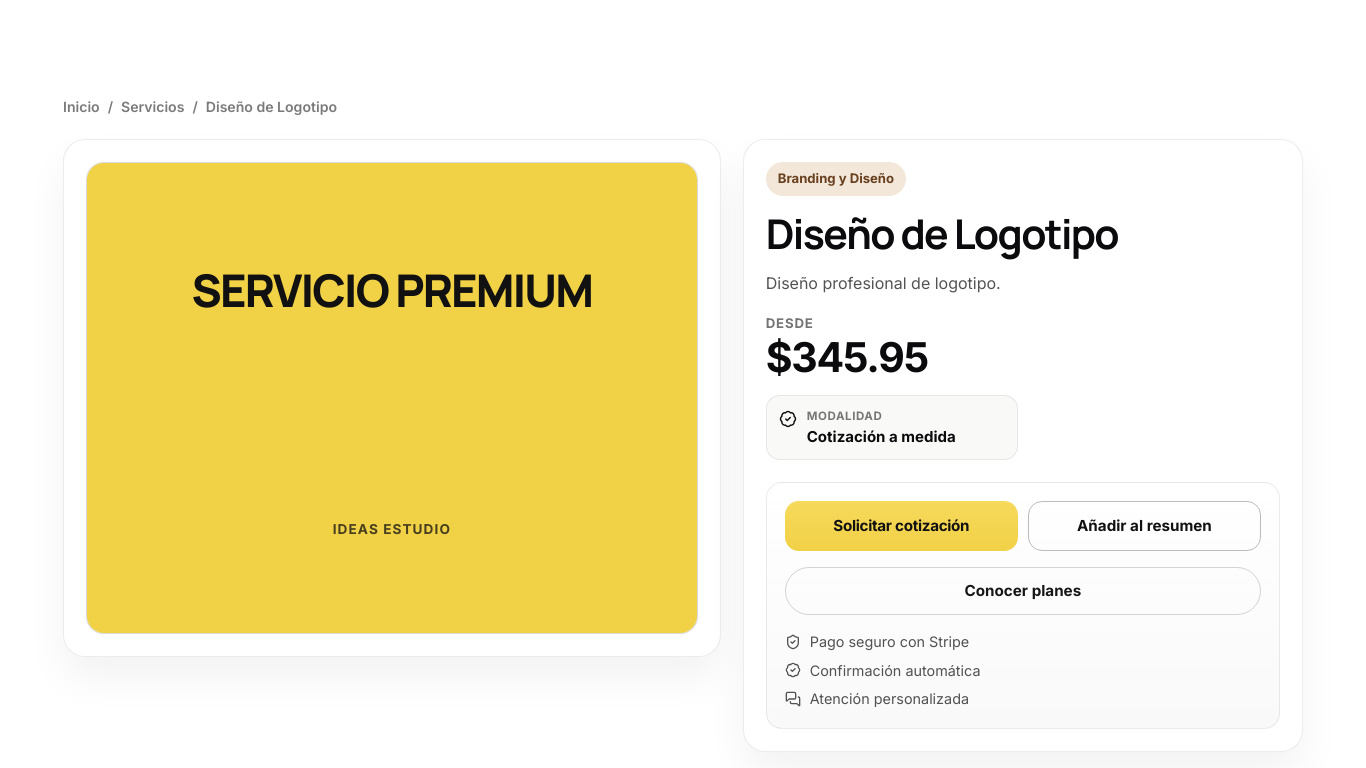
Test case: ProductDetailPage — 'Conocer planes' button › clicking it opens the plans modal
Expected: the heading "Diseño de Logotipo" is shown, [766, 205, 1118, 261]
Click the button with class "service-detail-purchase__plans-btn" at (1023, 591), box [785, 567, 1261, 615]
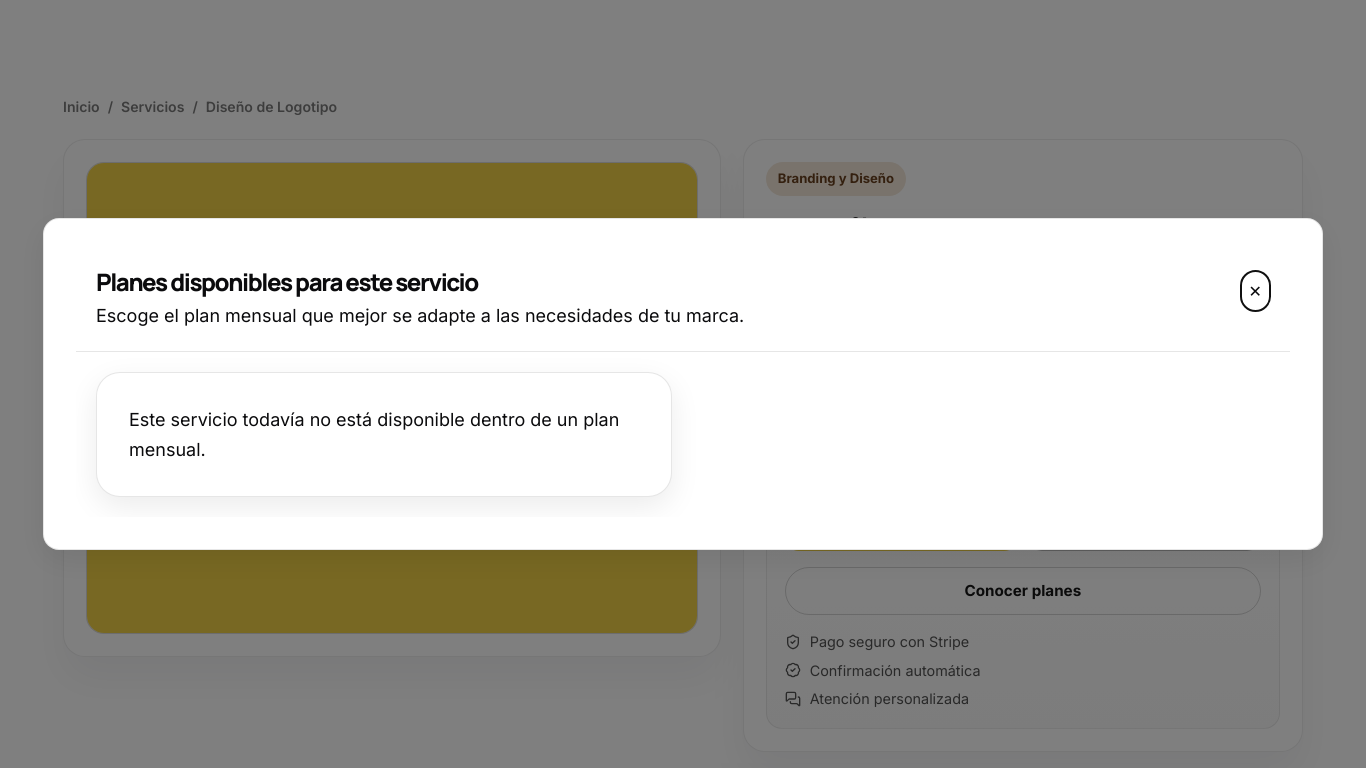
Expected: the dialog is shown, [43, 218, 1323, 550]
